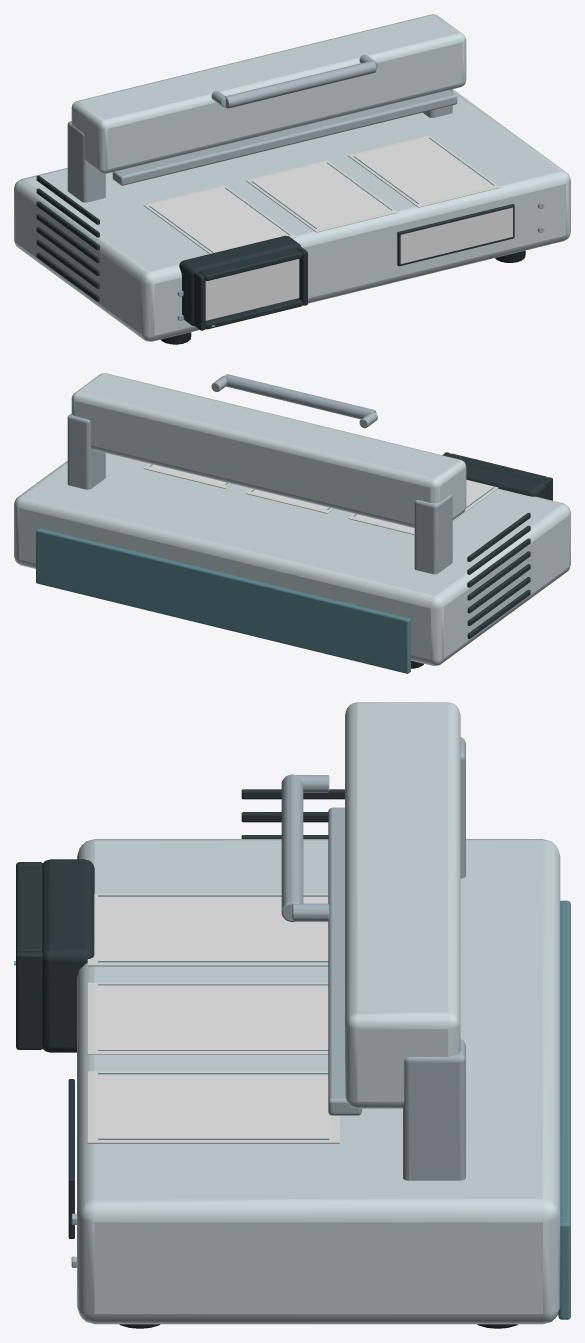
File: ID_SterileSealer.fbx
3 views of the same model, one above another, from view 1: azimuth 30°, elevation 25°; view 2: azimuth 150°, elevation 25°; view 3: azimuth 270°, elevation 25° (orthographic). The views are drawn at different scales.
Parts seen in each view (by area): view 1: ID_SterileSealer; view 2: ID_SterileSealer; view 3: ID_SterileSealer.
Part boxes in pixels (x1,y1,x2,y2): ID_SterileSealer: [14, 14, 570, 344]; ID_SterileSealer: [14, 373, 570, 673]; ID_SterileSealer: [14, 702, 570, 1328].
Size of the model in its own units: 84.5 by 35.06 by 53.
